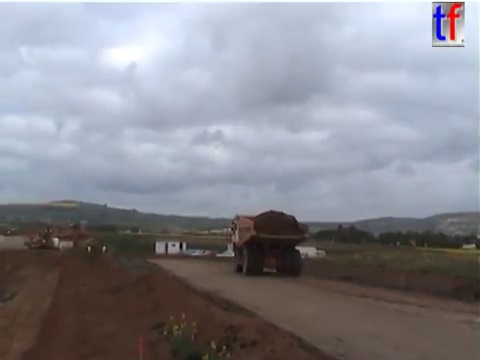excavator: (23, 226, 65, 252)
truck: (226, 212, 312, 279)
